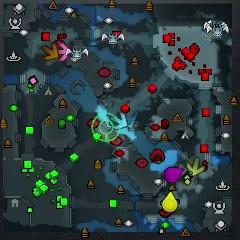Other: (91, 113, 121, 142)
p3: (164, 167, 183, 182)
p4: (162, 192, 178, 212)
x1: (58, 42, 69, 61)
x2: (187, 158, 204, 176)
x3: (110, 112, 128, 130)
x5: (42, 43, 58, 59)
